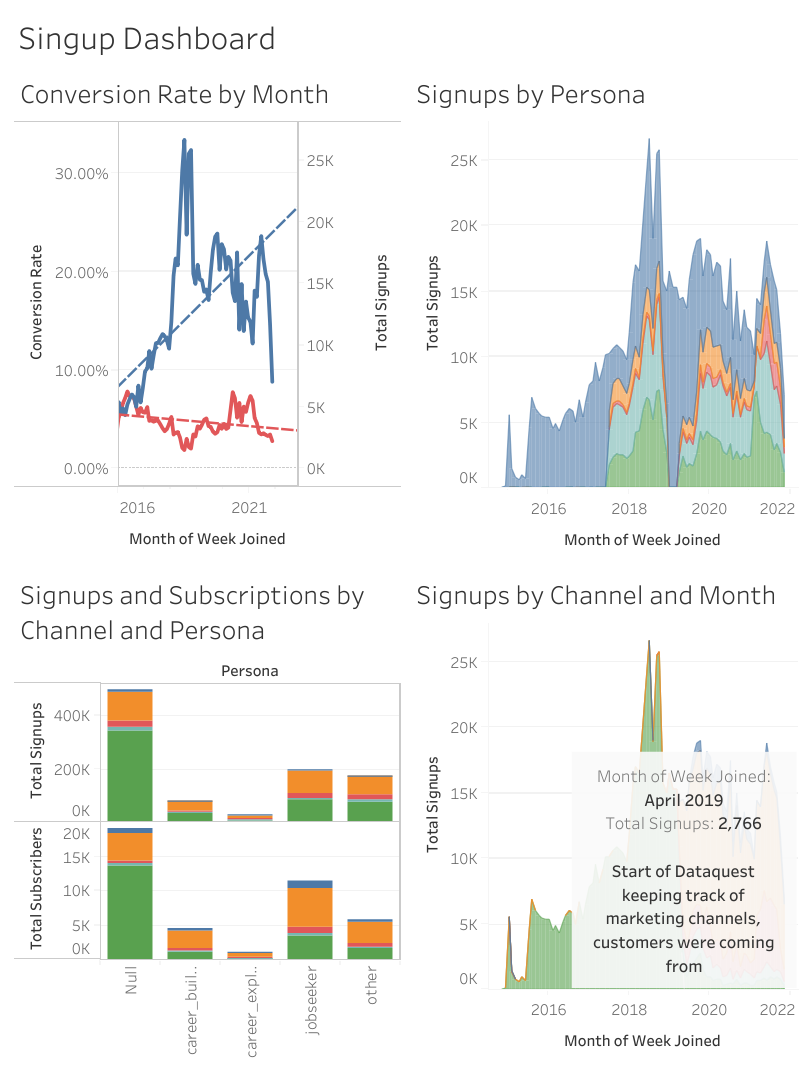

This screenshot's page, from the dashboard's own definition file:
{"tool":"tableau","page":{"name":"Dashboard 1","canvas":[650,860],"ordinal":0},"visuals":[{"type":"title","box":[8,9.3,634,48.6]},{"type":"worksheet","title":"Conversion Rate by Month","mark":"Automatic","rows":["Calculation_313281691902046208","total_signups"],"cols":["week_joined"],"box":[8,57.9,317,396.4]},{"type":"worksheet","title":"Signups by Persona","mark":"Area","rows":["total_signups"],"cols":["week_joined"],"box":[325,57.9,317,396.4]},{"type":"worksheet","title":"Signups and Subscriptions by Channel and Persona","mark":"Automatic","rows":["total_signups","total_subscribers"],"cols":["persona"],"box":[8,454.3,317,396.4]},{"type":"worksheet","title":"Signups by Channel and Month","mark":"Area","rows":["total_signups"],"cols":["week_joined"],"box":[325,454.3,317,396.4]}]}

Visuals, with their boxes in screenshot pixels (x1, y1, x2, y2), scaled from the page's 650x860 canvas onto the 811x1074 screenshot:
title: bbox=[10, 12, 801, 72]
"Conversion Rate by Month" worksheet: bbox=[10, 72, 406, 567]
"Signups by Persona" worksheet (Area marks): bbox=[406, 72, 801, 567]
"Signups and Subscriptions by Channel and Persona" worksheet: bbox=[10, 567, 406, 1062]
"Signups by Channel and Month" worksheet (Area marks): bbox=[406, 567, 801, 1062]
